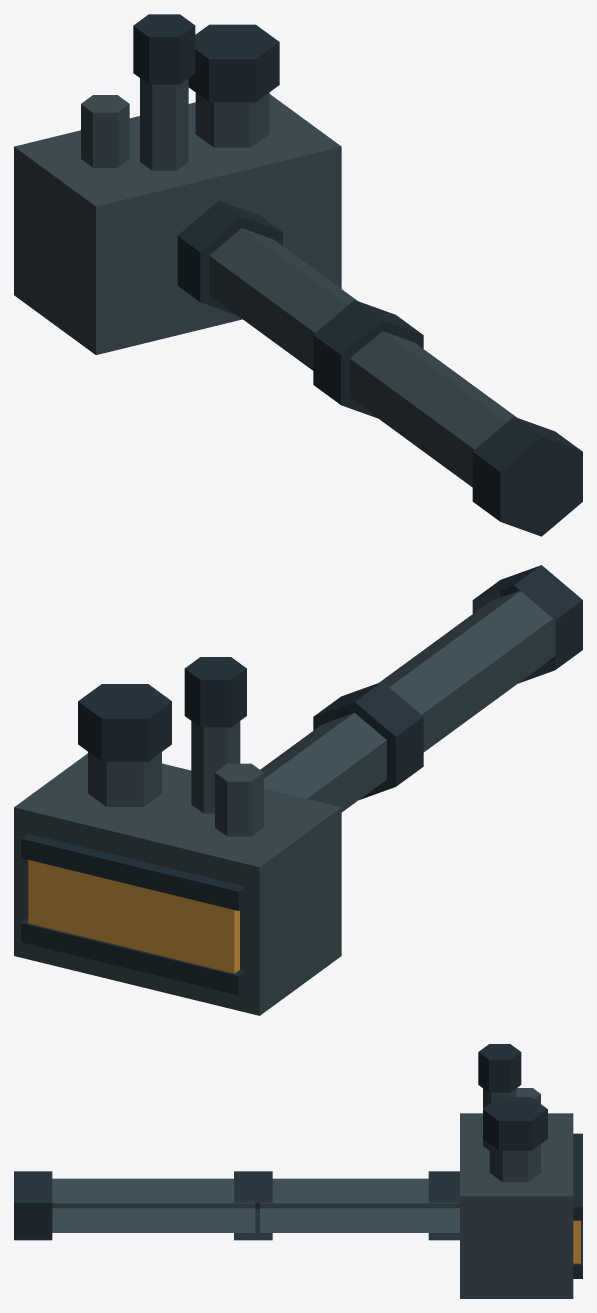
File: Horno.fbx
3 views of the same model, one above another, from view 1: azimuth 30°, elevation 25°; view 2: azimuth 150°, elevation 25°; view 3: azimuth 270°, elevation 25° (orthographic). The views are drawn at different scales.
Parts seen in each view (by area): view 1: Cube, Cylinder.004, Cylinder, Cylinder.003, Cylinder.006, Cylinder.002, Cylinder.001, Cylinder.008, Cylinder.007, Cylinder.009, Cylinder.005; view 2: Cube, Cube.003, Cylinder.004, Cylinder, Cylinder.006, Cube.002, Cylinder.002, Cube.001, Cylinder.003, Cylinder.007, Cylinder.009, Cylinder.005 (+1 smaller); view 3: Cube, Cylinder.004, Cylinder, Cylinder.006, Cylinder.003, Cylinder.007, Cylinder.002, Cylinder.005, Cylinder.001, Cube.002, Cylinder.008, Cube.003.
Boxes of the visible parts, bbox=[...] form: Cube: bbox=[14, 94, 341, 354]; Cylinder.004: bbox=[350, 331, 516, 487]; Cylinder: bbox=[209, 228, 357, 370]; Cylinder.003: bbox=[472, 416, 582, 536]; Cylinder.006: bbox=[188, 24, 279, 102]; Cylinder.002: bbox=[313, 300, 423, 418]; Cylinder.001: bbox=[177, 201, 282, 315]; Cylinder.008: bbox=[140, 78, 188, 170]; Cylinder.007: bbox=[133, 14, 195, 84]; Cylinder.009: bbox=[81, 95, 129, 167]; Cylinder.005: bbox=[195, 92, 269, 147]; Cube: bbox=[14, 753, 341, 1015]; Cube.003: bbox=[28, 860, 239, 973]; Cylinder.004: bbox=[379, 590, 555, 752]; Cylinder: bbox=[260, 712, 386, 812]; Cylinder.006: bbox=[78, 684, 171, 761]; Cube.002: bbox=[21, 833, 245, 910]; Cylinder.002: bbox=[313, 681, 423, 799]; Cube.001: bbox=[21, 918, 245, 995]; Cylinder.003: bbox=[472, 565, 582, 683]; Cylinder.007: bbox=[184, 657, 246, 727]; Cylinder.009: bbox=[215, 763, 263, 836]; Cylinder.005: bbox=[88, 752, 161, 806]; Cube: bbox=[460, 1113, 573, 1298]; Cylinder.004: bbox=[52, 1178, 255, 1232]; Cylinder: bbox=[260, 1178, 459, 1232]; Cylinder.006: bbox=[483, 1097, 547, 1150]; Cylinder.003: bbox=[14, 1171, 52, 1240]; Cylinder.007: bbox=[478, 1044, 521, 1092]; Cylinder.002: bbox=[234, 1171, 272, 1240]; Cylinder.005: bbox=[489, 1144, 540, 1182]; Cylinder.001: bbox=[428, 1171, 459, 1240]; Cube.002: bbox=[573, 1133, 582, 1220]; Cylinder.008: bbox=[483, 1088, 516, 1150]; Cube.003: bbox=[573, 1220, 580, 1263].
Bounding box in the file's own units: 346 × 1004 × 383.
1 material, 1 textured.
